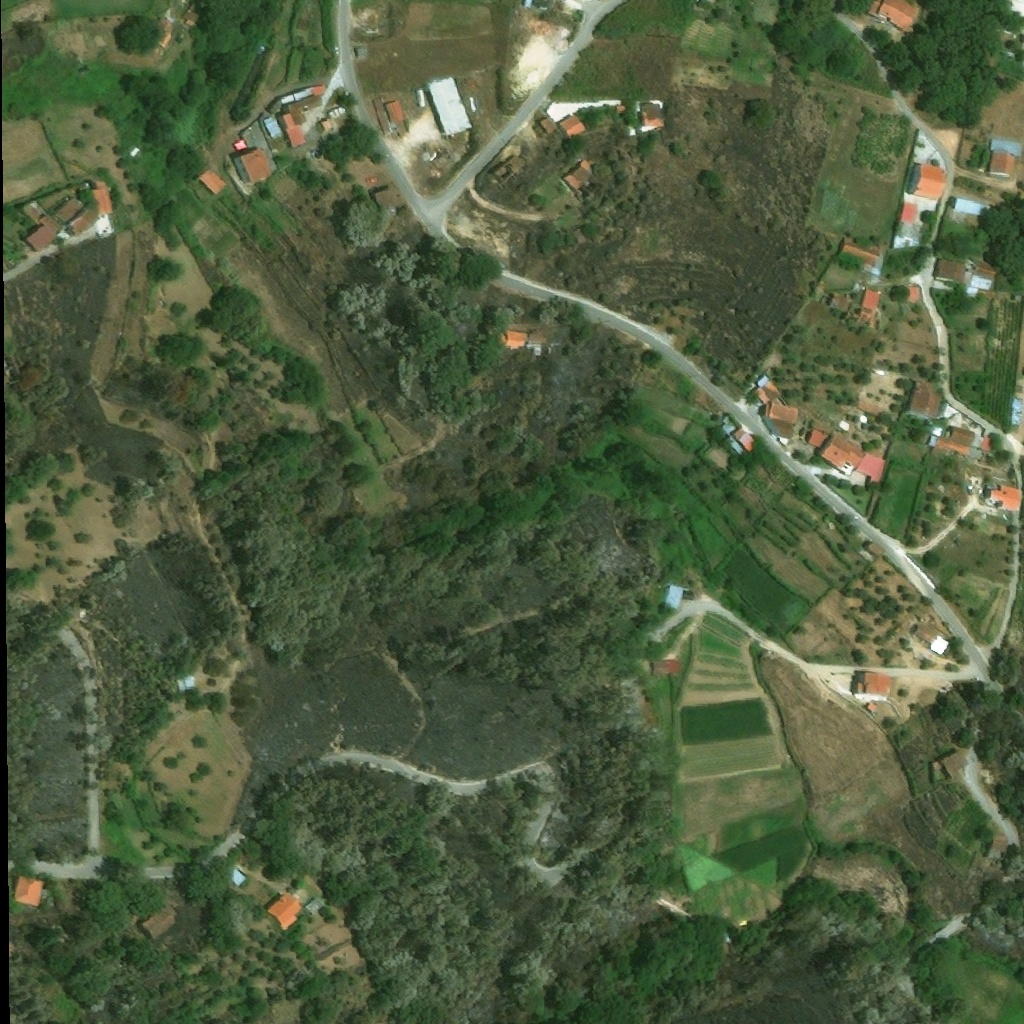0 no-damage: (752, 371, 799, 440), (804, 427, 869, 476), (932, 256, 998, 301), (424, 77, 472, 137), (280, 95, 322, 148), (49, 195, 96, 238), (836, 238, 887, 277), (863, 0, 922, 33), (262, 889, 302, 932), (905, 378, 945, 420), (927, 433, 984, 462), (907, 161, 948, 200), (233, 147, 274, 184), (138, 902, 177, 939), (851, 670, 893, 703), (946, 423, 992, 452), (22, 214, 57, 252), (935, 744, 969, 783), (988, 137, 1021, 177), (842, 301, 879, 330), (15, 874, 45, 908), (371, 185, 405, 213), (988, 485, 1021, 513), (281, 85, 326, 105), (196, 168, 227, 197), (731, 425, 760, 452), (91, 181, 113, 215), (639, 99, 665, 127), (558, 115, 587, 140), (853, 394, 883, 418), (824, 289, 853, 313), (498, 329, 528, 352), (984, 836, 1009, 863), (649, 657, 681, 678), (911, 623, 938, 645), (151, 15, 174, 40), (861, 284, 882, 311), (526, 332, 548, 356), (385, 100, 406, 124), (898, 200, 919, 224), (169, 670, 193, 691), (663, 583, 683, 607), (954, 198, 982, 214), (179, 9, 201, 28), (865, 540, 886, 558), (304, 897, 323, 915), (540, 116, 557, 135), (321, 118, 337, 135), (354, 46, 367, 57), (616, 105, 626, 112)
2 major-damage: (562, 158, 602, 203)
3 destroyed: (507, 154, 526, 175)
4 un-classified: (522, 0, 534, 8), (539, 3, 548, 11)
